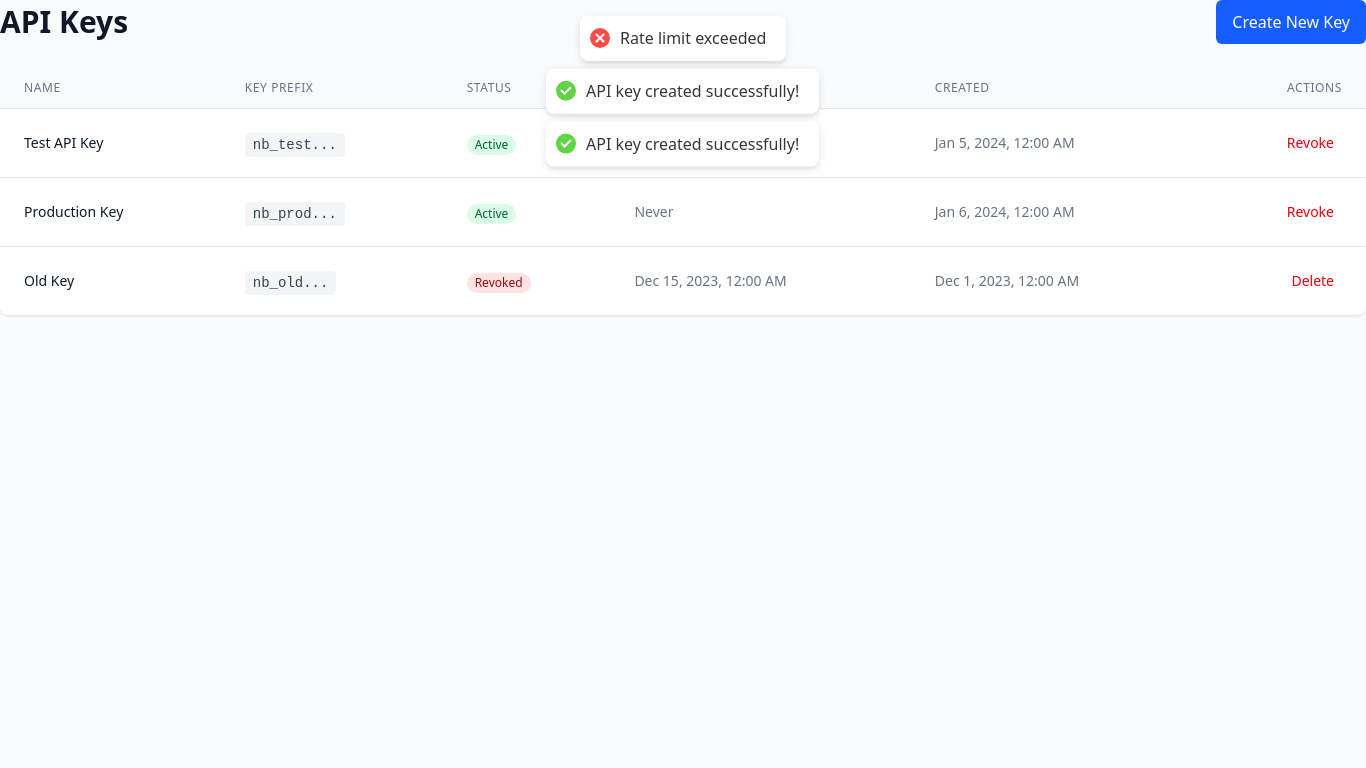
Scenario: ApiKeys Page › Create API Key › should copy API key to clipboard
# Create a new key
Click the button "Create New Key". click: (1291, 22)
box: [1216, 0, 1365, 44]
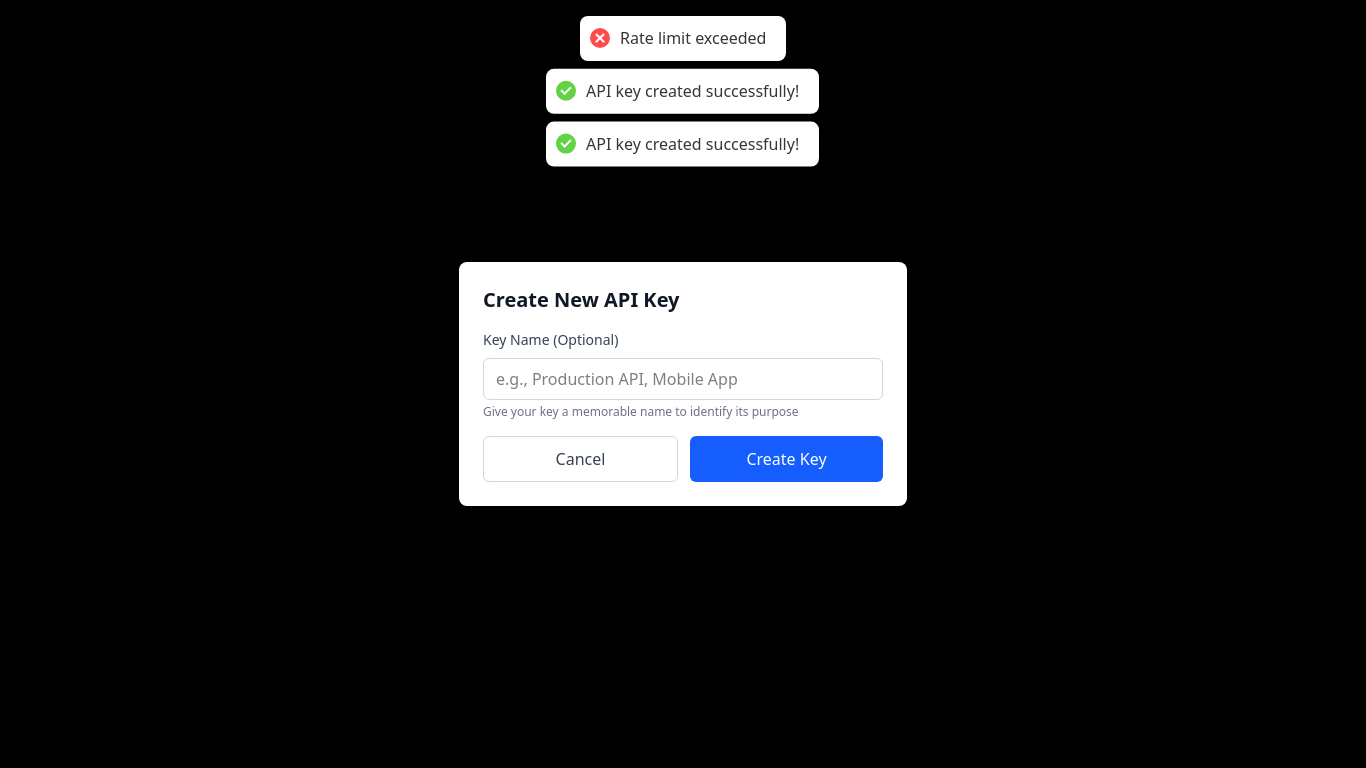
Click the button "Create Key". click: (786, 459)
box: [690, 436, 883, 482]
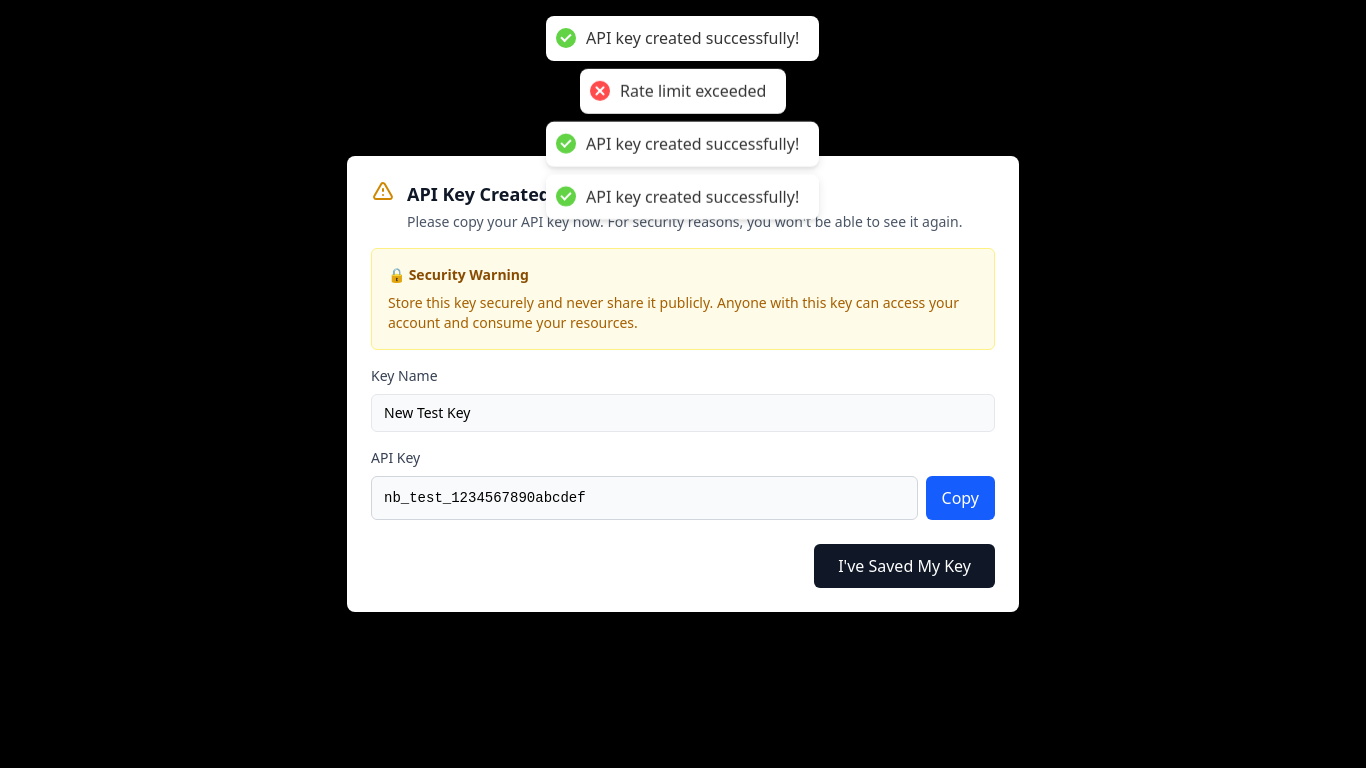
Check: the heading "API Key Created Successfully" is shown, box [407, 182, 664, 206]
# Click copy button
Click the button "Copy". click: (960, 498)
box: [926, 476, 995, 520]
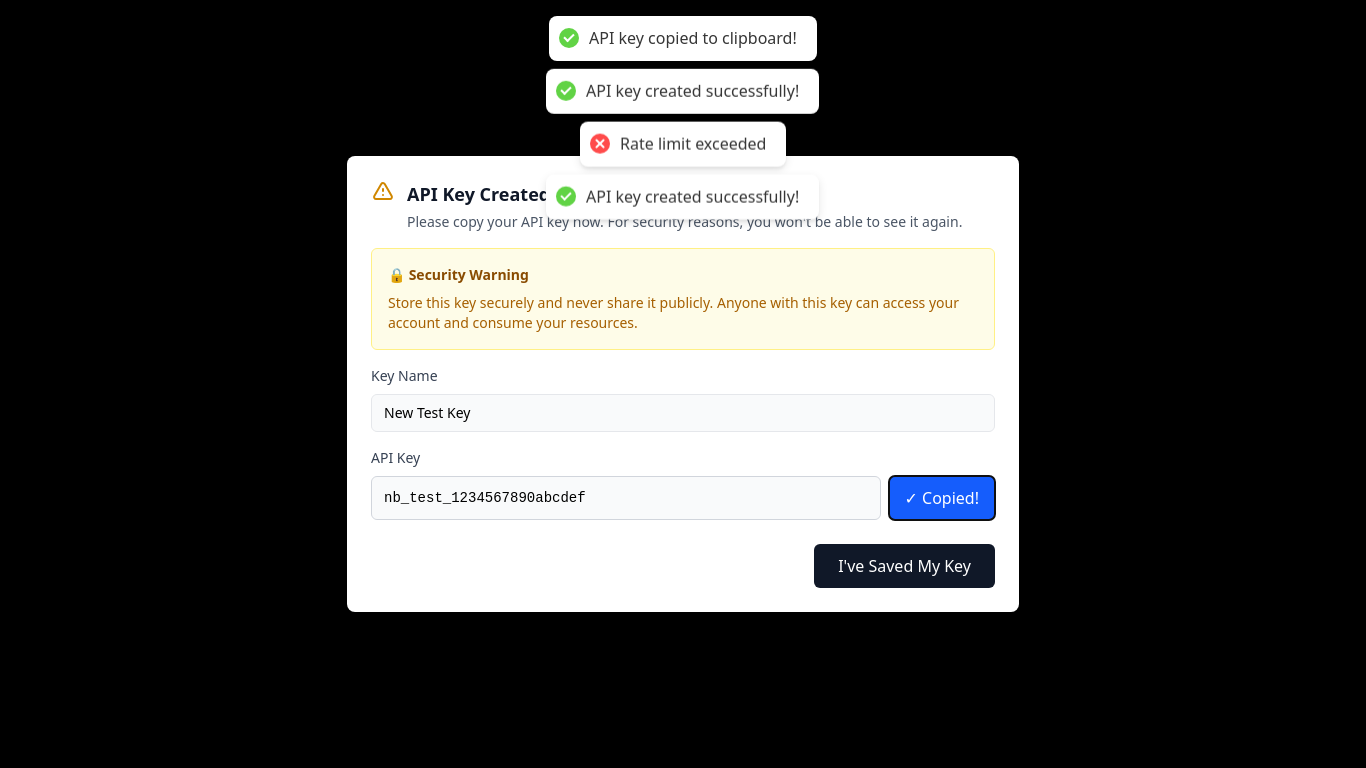
Check: the button "✓ Copied!" is shown, box [888, 476, 995, 520]
